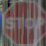Stop: (4, 3, 44, 45)
